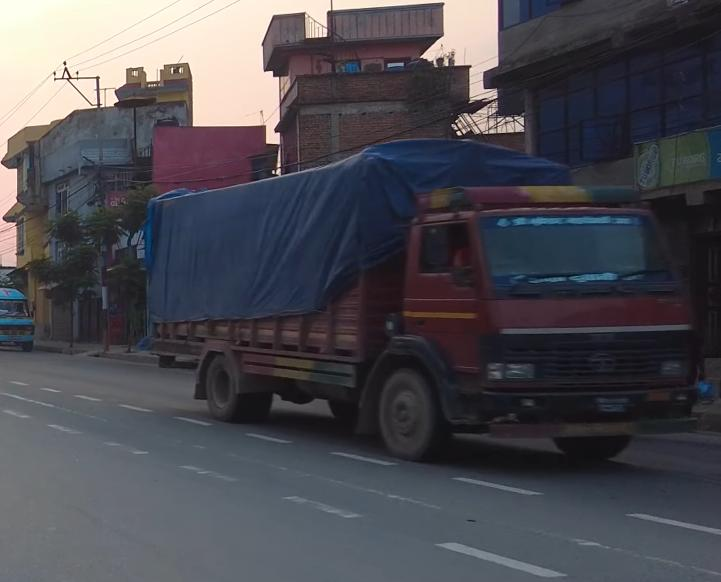truck: (141, 137, 704, 463)
